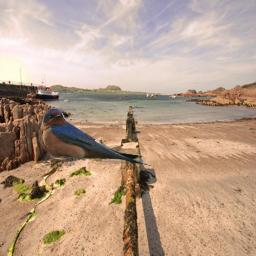Swallow: (39, 108, 154, 167)
